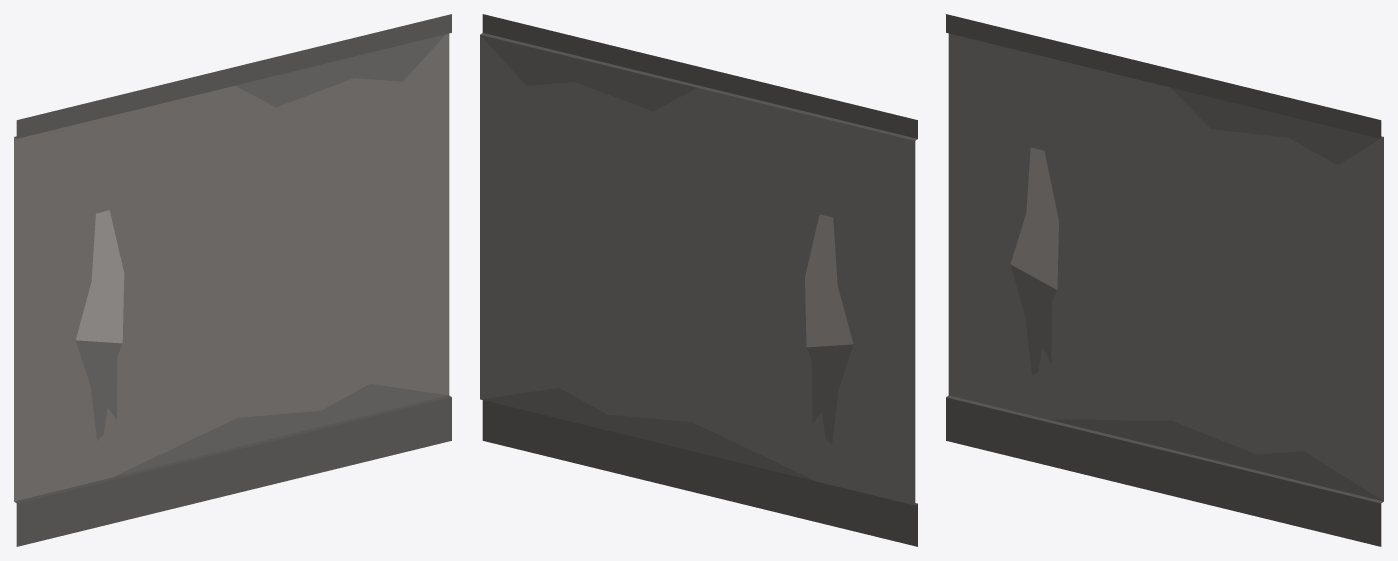
File: AI_Env_Wall_Grey_TornWallpaper_02.fbx
The picture shows the model from 3 angles, left to right: view 1: azimuth 30°, elevation 25°; view 2: azimuth 150°, elevation 25°; view 3: azimuth 330°, elevation 25°; orthographic projection.
Parts seen in each view (by area): view 1: AI_Env_Wall_TornWallpaper_02; view 2: AI_Env_Wall_TornWallpaper_02; view 3: AI_Env_Wall_TornWallpaper_02.
Part boxes in pixels (x1=…): AI_Env_Wall_TornWallpaper_02: x1=14, y1=14, x2=451, y2=546; AI_Env_Wall_TornWallpaper_02: x1=480, y1=14, x2=917, y2=546; AI_Env_Wall_TornWallpaper_02: x1=946, y1=14, x2=1383, y2=546.
Bounding box in the file's own units: 5 × 4.69 × 0.0549.
